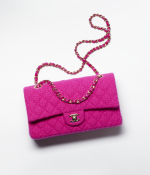channel: (14, 71, 123, 138), (50, 84, 67, 103), (66, 108, 86, 123)
